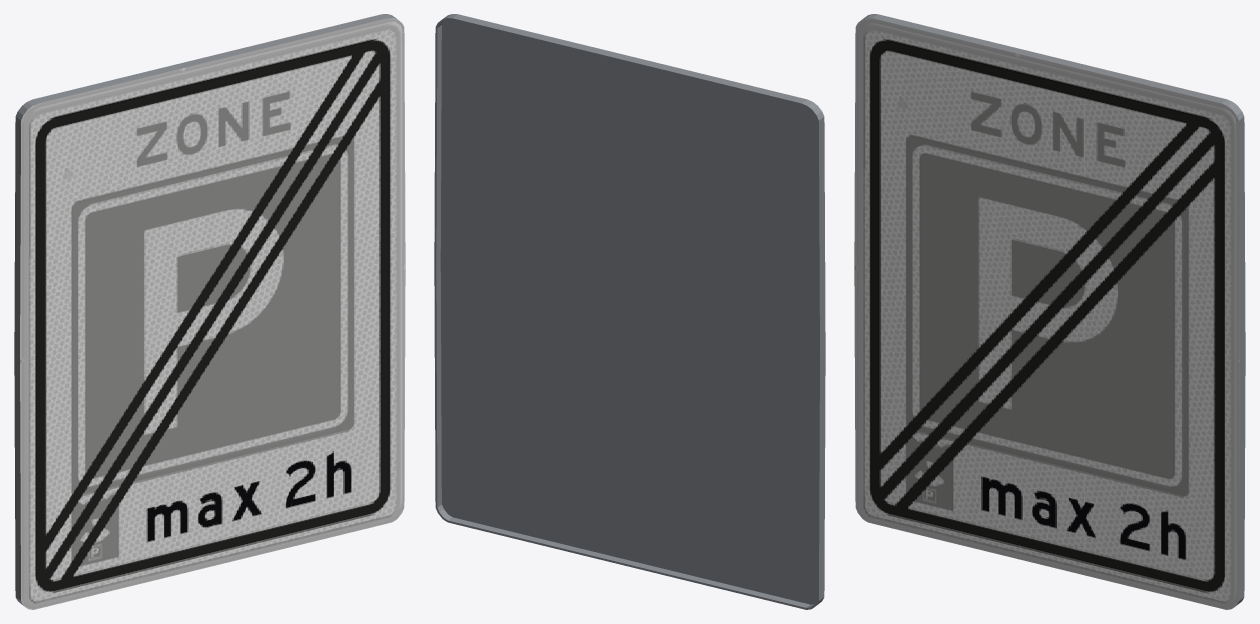
3 renders of one model, left to right at view 1: azimuth 30°, elevation 25°; view 2: azimuth 150°, elevation 25°; view 3: azimuth 330°, elevation 25°, orthographic.
Parts seen in each view (by area): view 1: cat_73ef477fbcd561fb; view 2: cat_73ef477fbcd561fb; view 3: cat_73ef477fbcd561fb.
Part boxes in pixels (x1=…): cat_73ef477fbcd561fb: x1=14, y1=14, x2=405, y2=609; cat_73ef477fbcd561fb: x1=434, y1=14, x2=825, y2=609; cat_73ef477fbcd561fb: x1=854, y1=14, x2=1245, y2=609.
Size of the model in its own units: 0.6 by 0.015 by 0.7513.
Materials: 2 (1 with a texture image).
